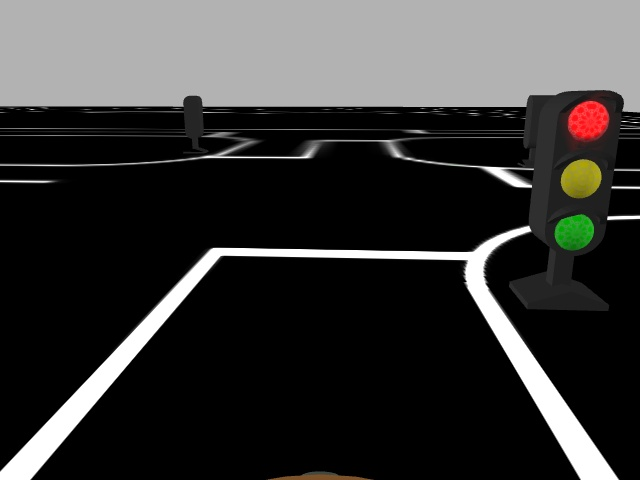red_light: (543, 91, 623, 257)
